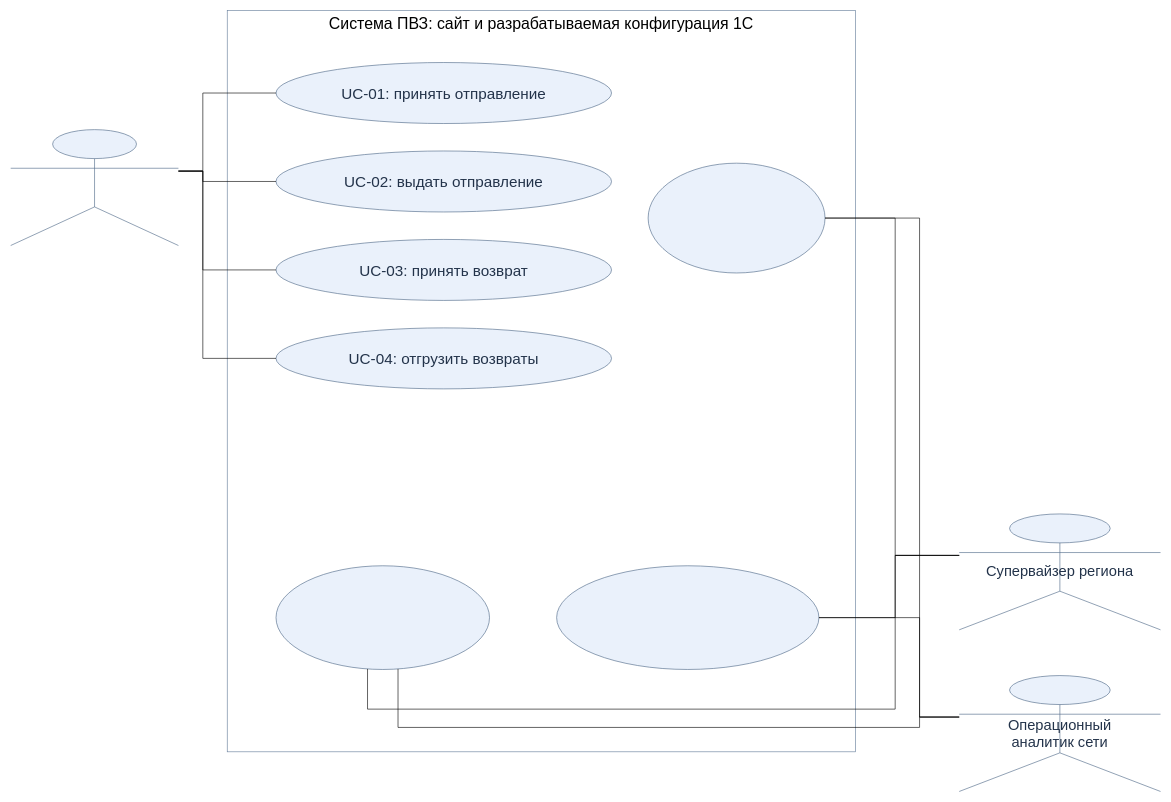
Image size: 1171x802. Some labels were removed from this diagram. Each missing label, with the box of its shape:
U1: подготовить CSV для отчёта: (648, 163, 825, 273)
U2: загрузить CSV в 1С: (275, 565, 490, 669)
UC-05: получить отчёт «Загрузка ПВЗ»: (556, 565, 819, 669)
Сотрудник ПВЗ: (10, 129, 178, 246)
